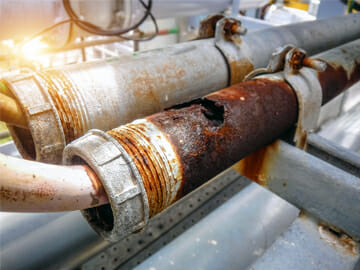hole: (174, 100, 229, 121)
